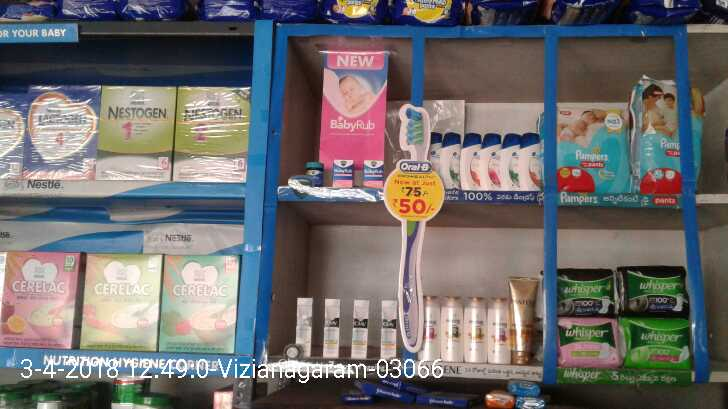vicks: (304, 158, 387, 190)
